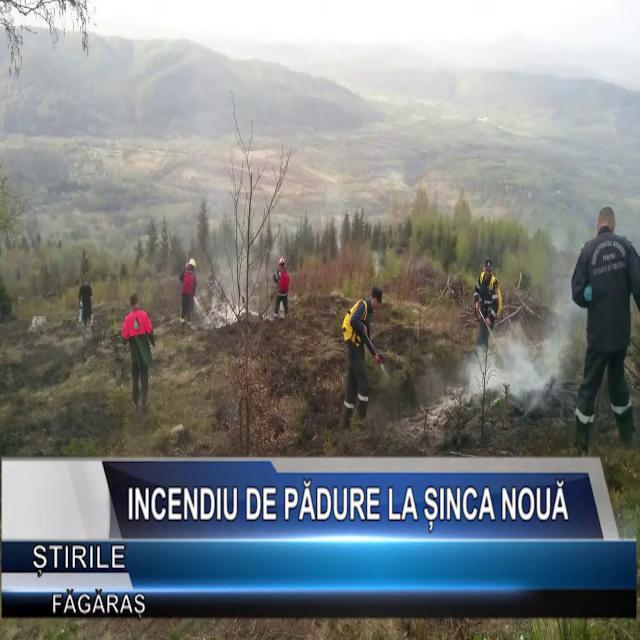Smoke: (455, 280, 583, 414)
